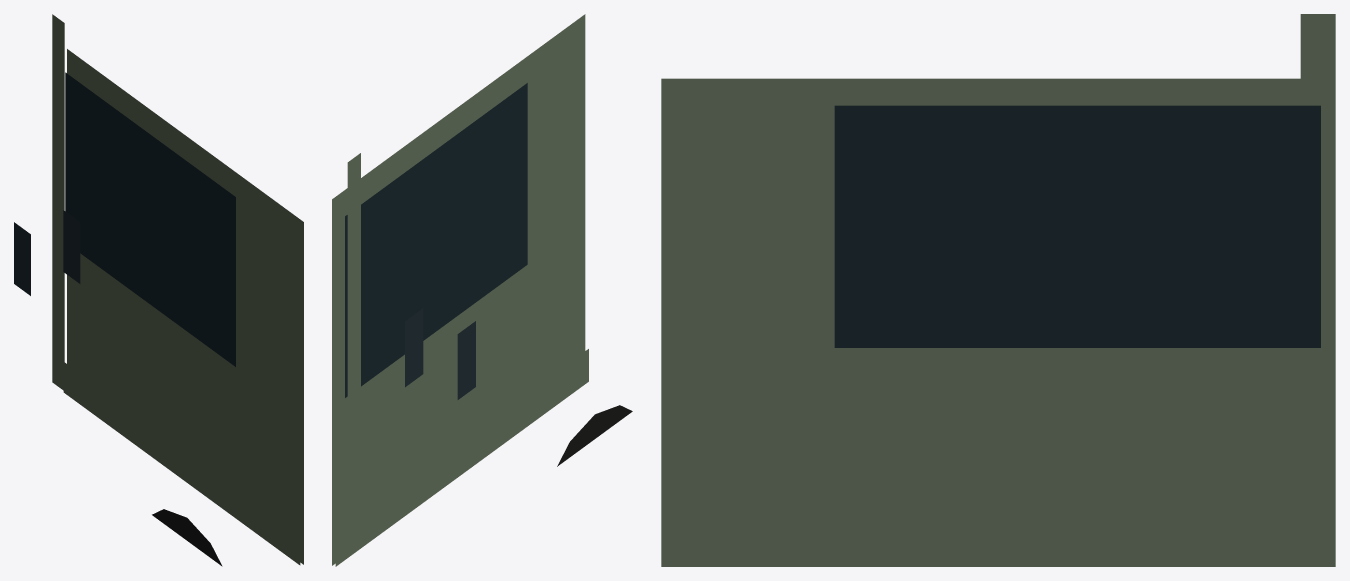
Rendered from guardvan-left.glb.
3 views of the same model, side by side, from view 1: azimuth 30°, elevation 25°; view 2: azimuth 150°, elevation 25°; view 3: azimuth 270°, elevation 25° (orthographic). The views are drawn at different scales.
Size of the model in its own units: 0.354 by 1.48 by 1.67.
1 material, 1 textured.
